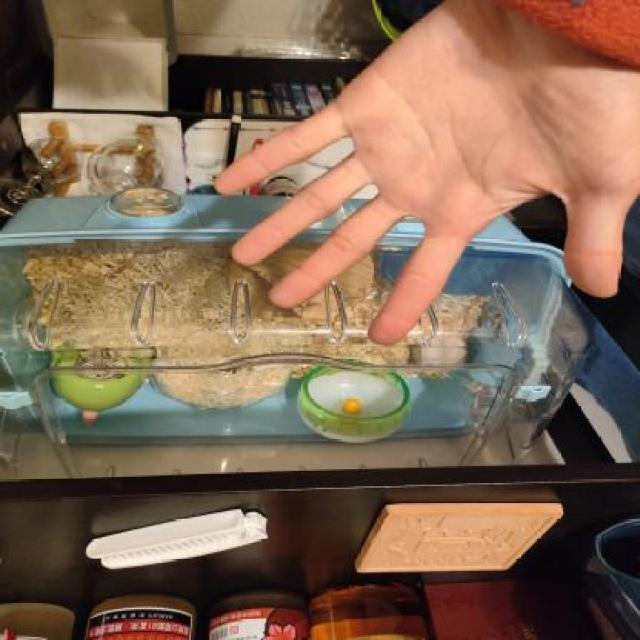bare_hand: (204, 2, 638, 356)
